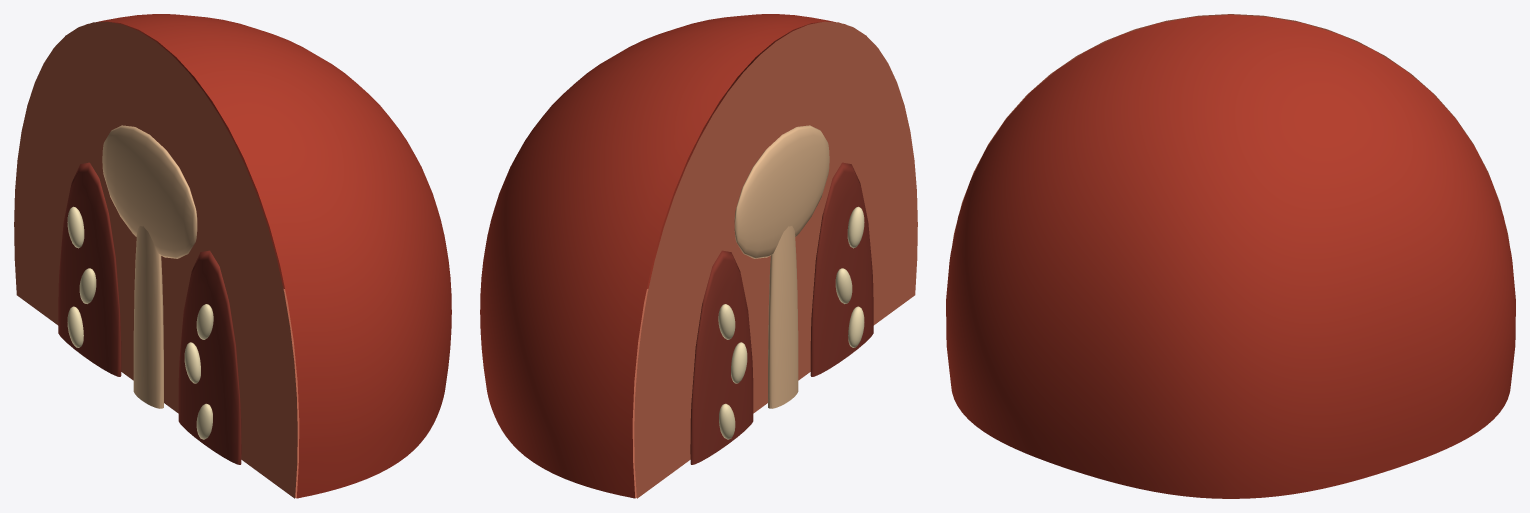
The model's file is plum_wedge.glb.
3 views of the same model, side by side, from view 1: azimuth 30°, elevation 25°; view 2: azimuth 150°, elevation 25°; view 3: azimuth 270°, elevation 25° (orthographic).
Visible parts, largest first — view 1: Prepared Plum half, Thick Plum flesh cap, Narrow longitudinal Plum locule, Dense Plum shoulder pith, Long narrow Plum central pith, Modeled Plum gallery seed.003; view 2: Prepared Plum half, Thick Plum flesh cap, Narrow longitudinal Plum locule, Dense Plum shoulder pith, Long narrow Plum central pith, Modeled Plum gallery seed.003; view 3: Prepared Plum half, Thick Plum flesh cap.
Boxes of the visible parts, x1,y1,x2,y2 form: Prepared Plum half: (86, 14, 451, 498); Thick Plum flesh cap: (14, 21, 297, 498); Narrow longitudinal Plum locule: (58, 162, 241, 464); Dense Plum shoulder pith: (102, 125, 197, 258); Long narrow Plum central pith: (133, 226, 163, 408); Modeled Plum gallery seed.003: (67, 206, 213, 439); Prepared Plum half: (480, 14, 845, 498); Thick Plum flesh cap: (634, 21, 917, 498); Narrow longitudinal Plum locule: (690, 162, 873, 464); Dense Plum shoulder pith: (734, 125, 829, 258); Long narrow Plum central pith: (768, 226, 798, 408); Modeled Plum gallery seed.003: (718, 206, 864, 439); Prepared Plum half: (946, 14, 1515, 498); Thick Plum flesh cap: (952, 14, 1509, 243).
Size of the model in its own units: 0.5321 by 0.62 by 0.9004.
